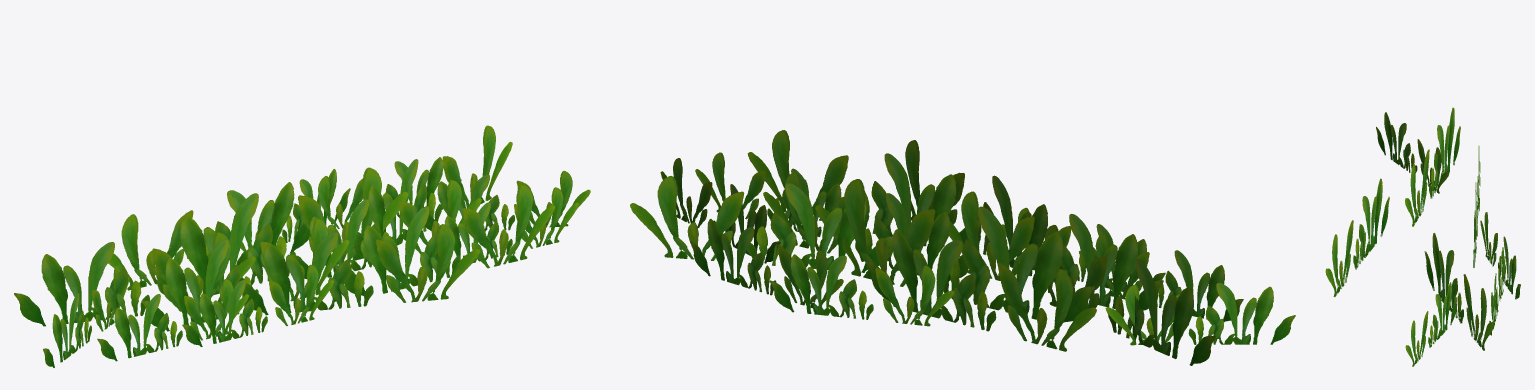
File: DN_grass09_sl01.FBX
3 renders of one model, left to right at view 1: azimuth 30°, elevation 25°; view 2: azimuth 150°, elevation 25°; view 3: azimuth 270°, elevation 25°, orthographic. The views are drawn at different scales.
Parts seen in each view (by area): view 1: DN_grass09_sl01; view 2: DN_grass09_sl01; view 3: DN_grass09_sl01.
Part boxes in pixels (bbox=[...]): DN_grass09_sl01: bbox=[14, 125, 590, 367]; DN_grass09_sl01: bbox=[630, 130, 1295, 365]; DN_grass09_sl01: bbox=[1325, 107, 1520, 366].
Size of the model in its own units: 126 by 43.71 by 46.07.
